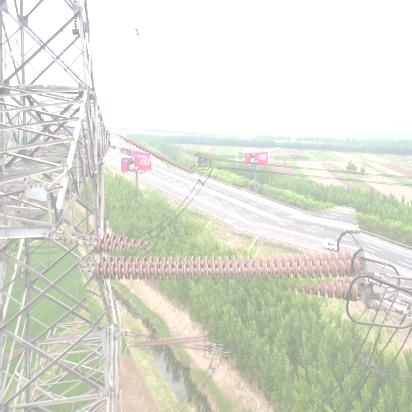insulator: (81, 217, 367, 316), (130, 326, 211, 358), (117, 141, 199, 171)
